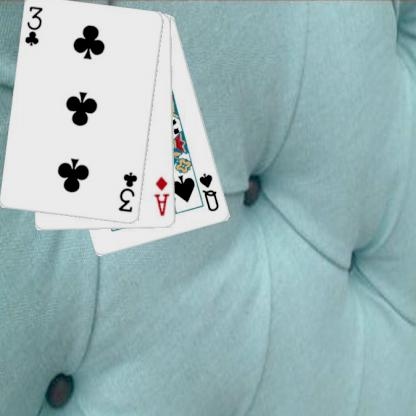3C: (116, 170, 139, 214), (22, 4, 44, 48)
AD: (152, 174, 171, 217)
QS: (196, 170, 221, 213)
